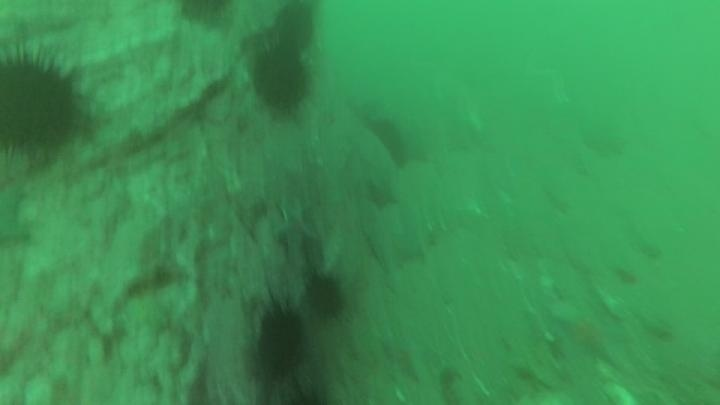echinus: (0, 45, 84, 161), (250, 299, 311, 385), (248, 42, 314, 116), (364, 115, 413, 170), (270, 2, 321, 54), (303, 270, 349, 321), (175, 1, 239, 30)
starfish: (548, 302, 629, 368), (362, 208, 429, 276), (269, 199, 321, 259), (377, 330, 431, 384), (0, 184, 35, 252), (363, 176, 401, 213)
